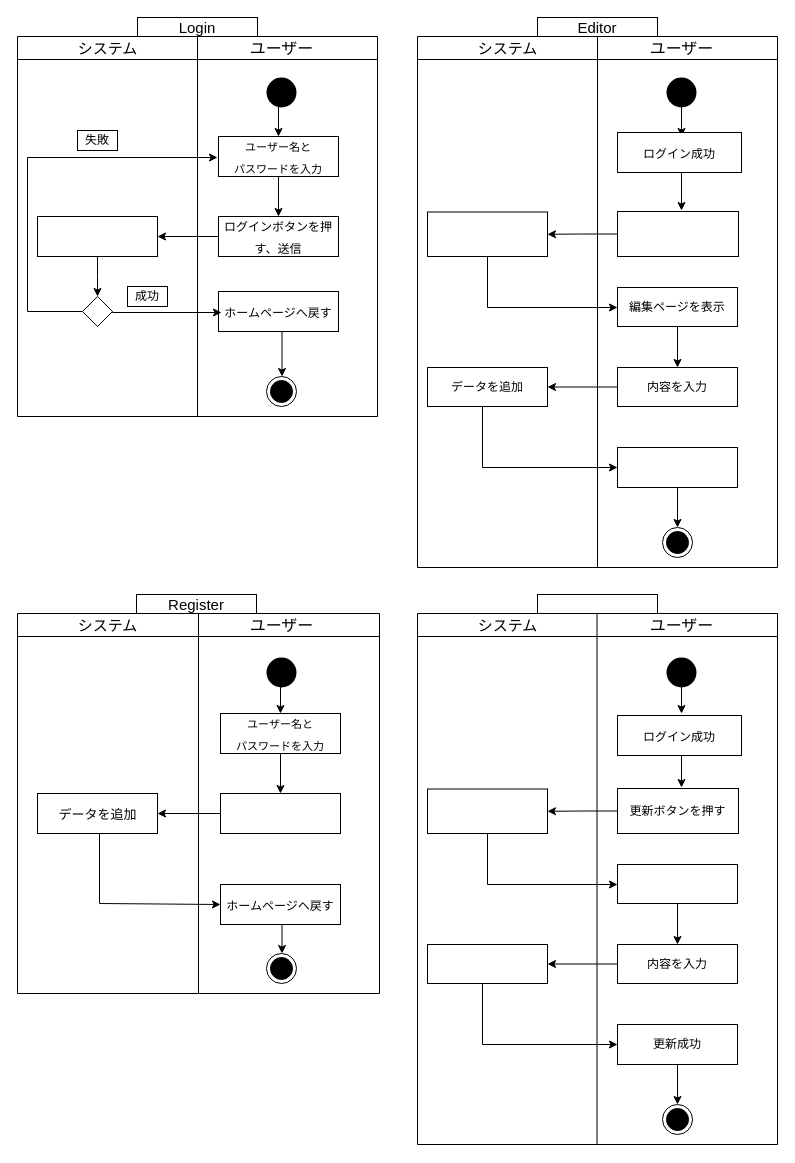
The diagram is 795 pixels wide and 1163 high, and some of its shapes have lost their labels. Here are the shapes that lost their labels. From the top down, the box of each, then its label:
(36, 216, 158, 256): データを確認
(426, 211, 548, 256): 編集ページにリンク
(616, 210, 738, 256): 編集ボタンを押す
(616, 446, 738, 488): 編集成功
(536, 594, 658, 614): Update
(220, 792, 340, 834): ボタンを押す、送信
(426, 788, 548, 834): 更新ページにリンク
(616, 864, 738, 904): 更新ページを表示
(426, 944, 548, 984): データを更新
